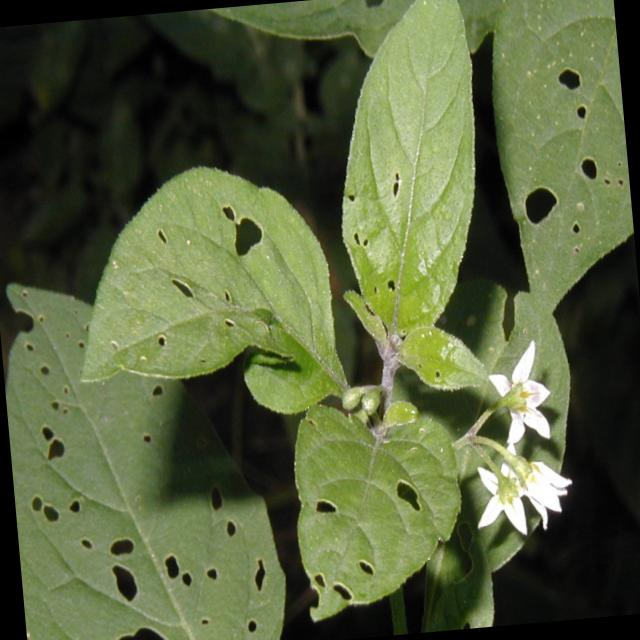Poisonous-Deadly_Nightshade: (0, 247, 601, 640), (258, 0, 635, 277)
